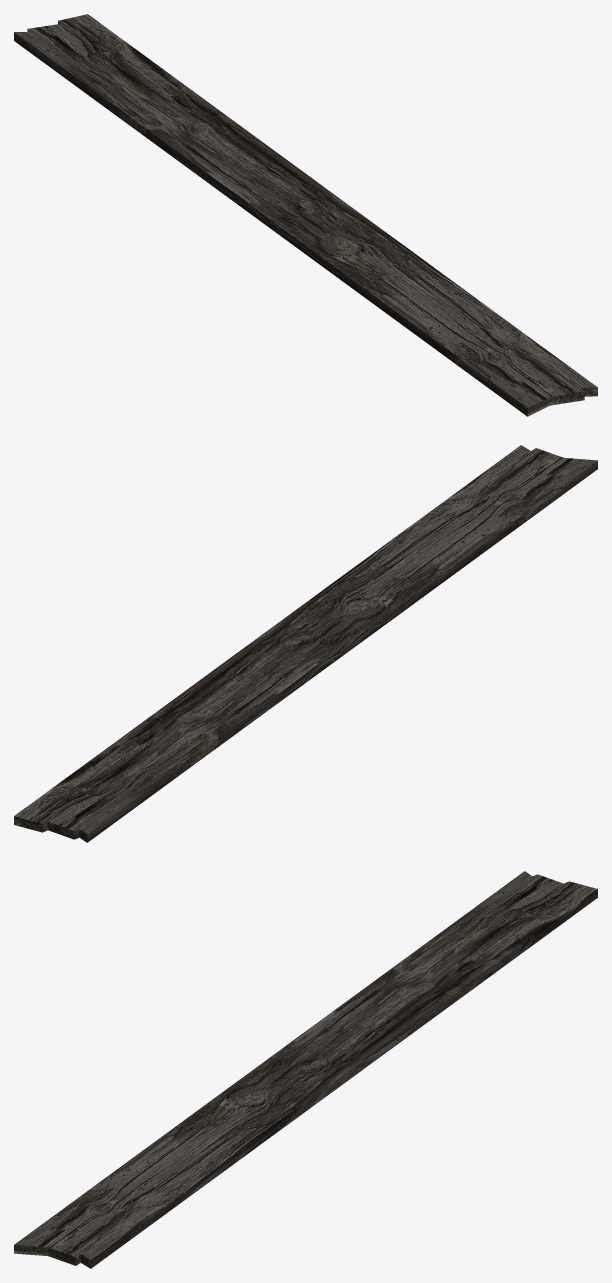
File: Wood_el8.fbx
The picture shows the model from 3 angles, top to bottom: view 1: azimuth 30°, elevation 25°; view 2: azimuth 150°, elevation 25°; view 3: azimuth 330°, elevation 25°; orthographic projection.
Visible parts, largest first — view 1: polySurface59; view 2: polySurface59; view 3: polySurface59.
Boxes of the visible parts, box(x1,y1,x2,y2) form: polySurface59: box(14, 14, 597, 416); polySurface59: box(14, 445, 597, 842); polySurface59: box(14, 871, 597, 1268).
Size of the model in its own units: 0.4084 by 0.0464 by 4.93.
